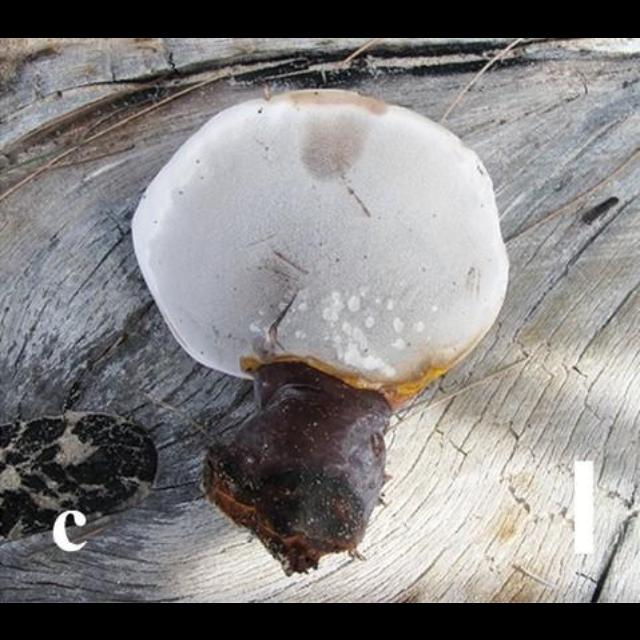primordium: (131, 86, 513, 410)
